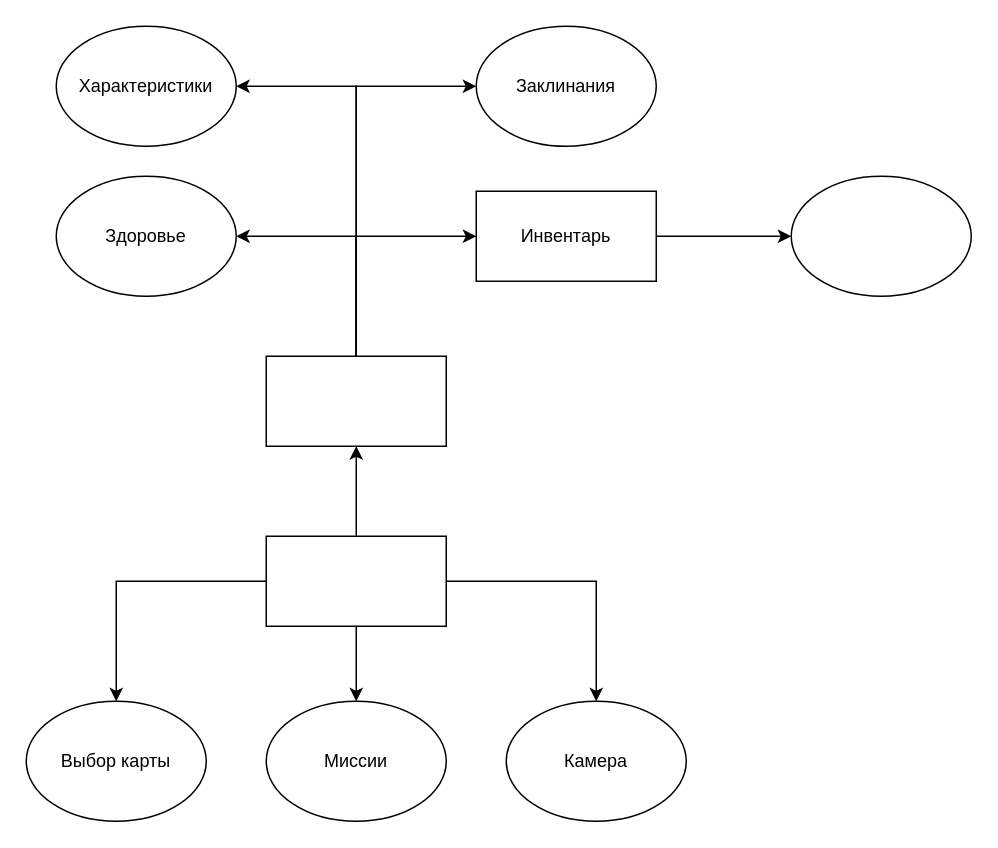
This 998x848 diagram has some shape labels left out. The shapes that lost their labels are listed below. From the top down, each one's centre as x and y in pixels, then its label:
the point at 880,235: Предмет
the point at 355,400: Персонаж
the point at 355,580: Пользователь
